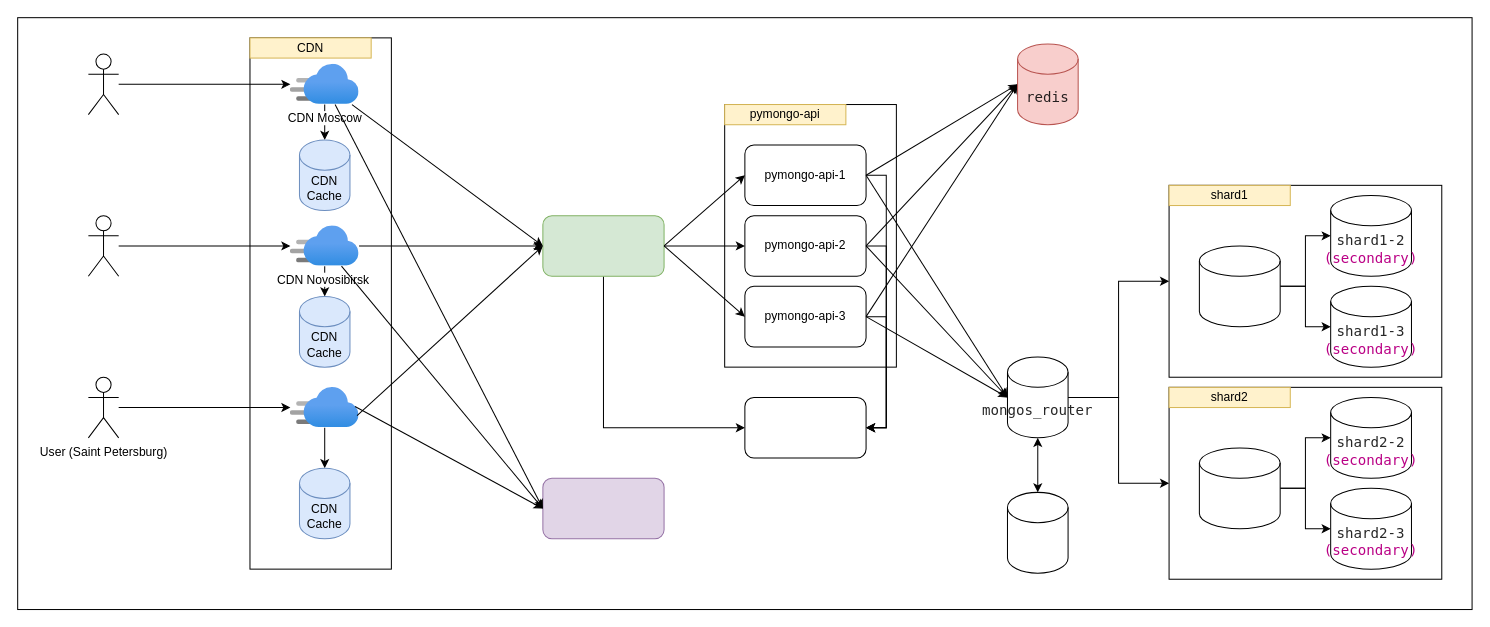
The diagram is 1490 pixels wide and 627 high, and some of its shapes have lost their labels. Each missing label, with the box of its shape:
API Gateway: (542, 215, 664, 276)
CDN Saint Petersburg: (290, 387, 359, 427)
configSrv: (1006, 491, 1068, 573)
Consul: (744, 396, 866, 458)
origin server: (542, 477, 664, 539)
shard1-1 (primary): (1198, 245, 1280, 327)
shard2-1 (primary): (1198, 447, 1280, 529)
User ( Novosibirsk ): (87, 215, 119, 276)
User (Moscow): (87, 53, 119, 115)
